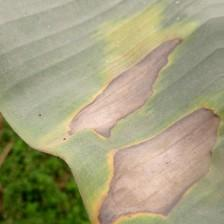cordana: (0, 0, 224, 224)
